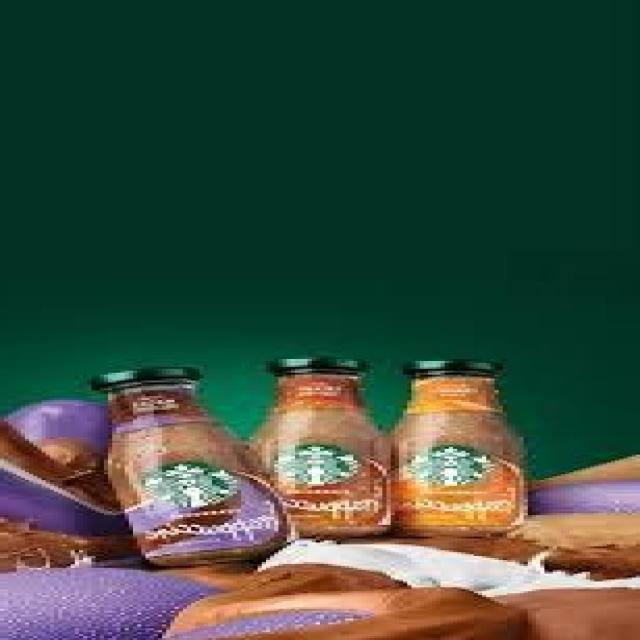starbucks: (146, 461, 224, 518), (410, 440, 494, 492), (279, 442, 357, 489)
